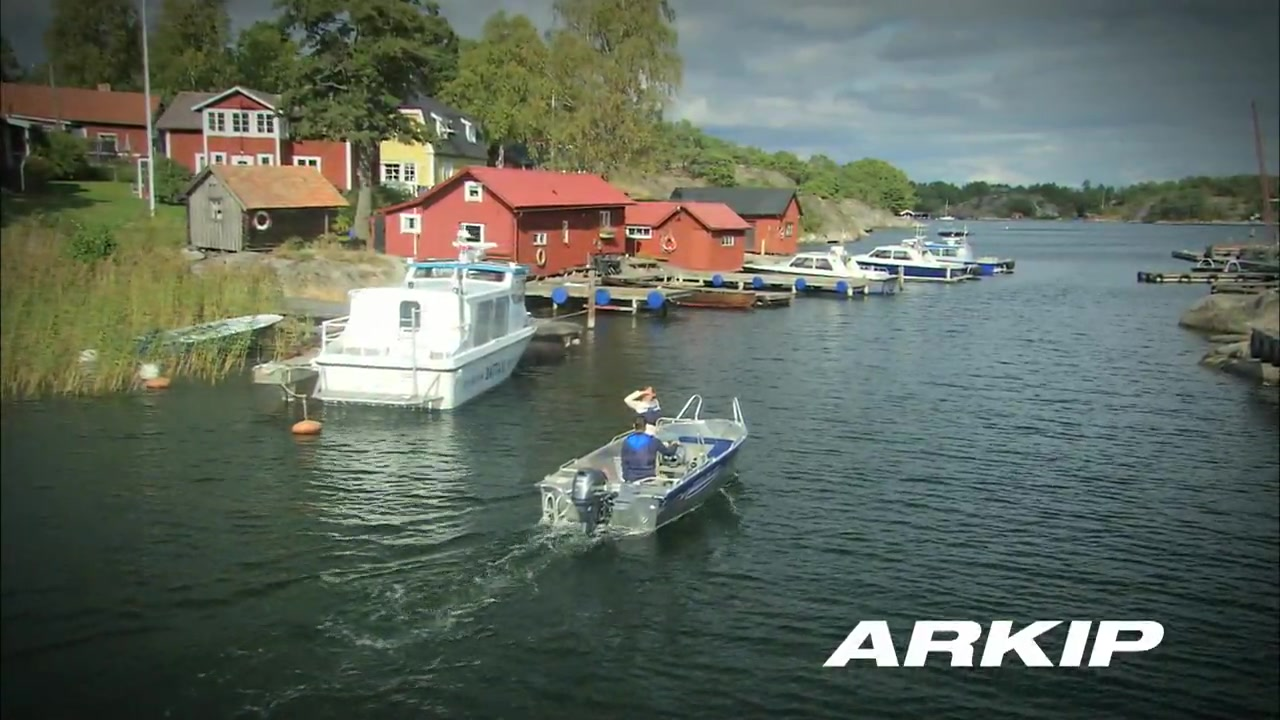boat: (532, 392, 756, 550)
